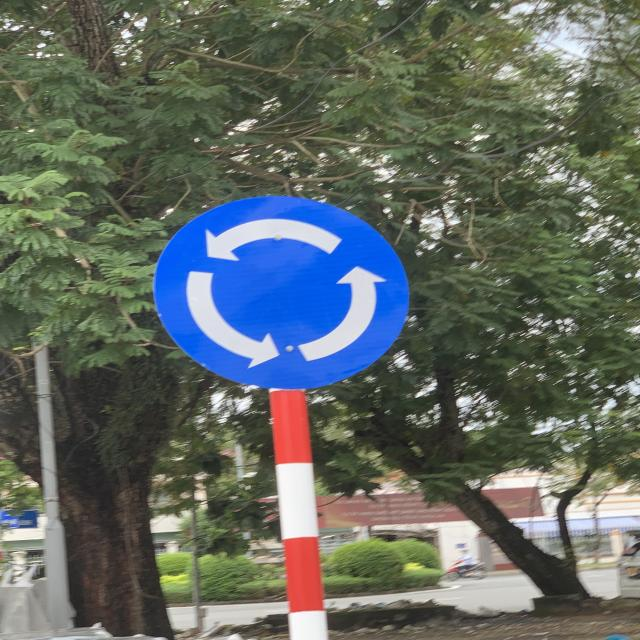Xe_Bus: (149, 186, 419, 393)
